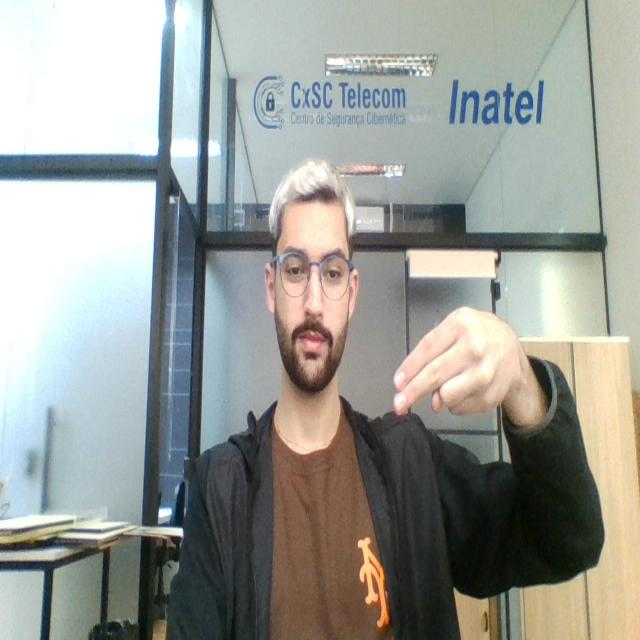N: (388, 307, 526, 428)
